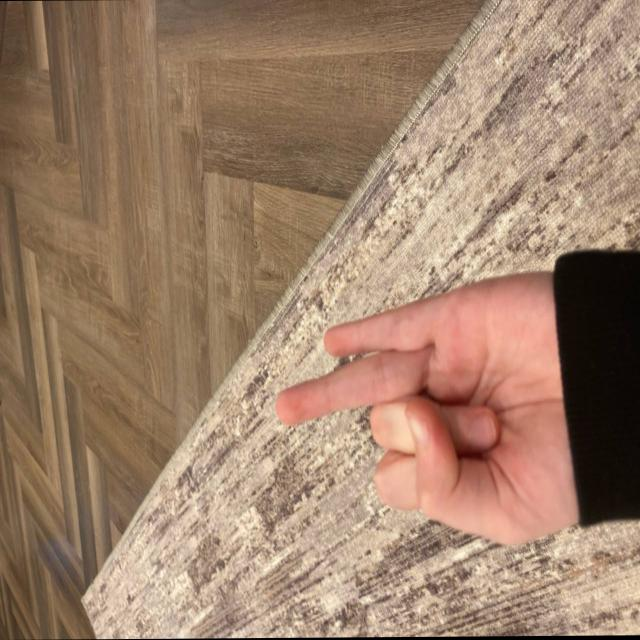i: (255, 246, 568, 539)
